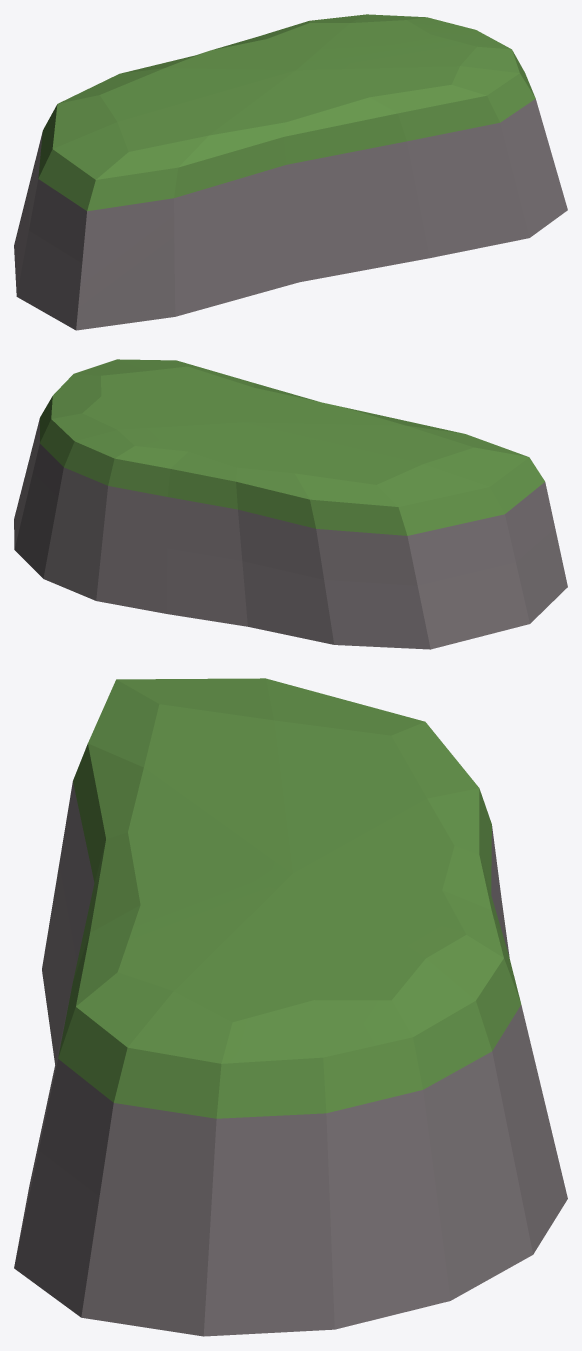
Rendered from Island_2.fbx.
3 views of the same model, one above another, from view 1: azimuth 30°, elevation 25°; view 2: azimuth 150°, elevation 25°; view 3: azimuth 270°, elevation 25° (orthographic). The views are drawn at different scales.
Parts seen in each view (by area): view 1: Island_2; view 2: Island_2; view 3: Island_2.
Part boxes in pixels (box(x1,y1,x2,y2)): Island_2: box(14, 14, 567, 330); Island_2: box(14, 359, 567, 649); Island_2: box(14, 678, 567, 1336).
Size of the model in its own units: 16.52 by 4.45 by 8.56.
